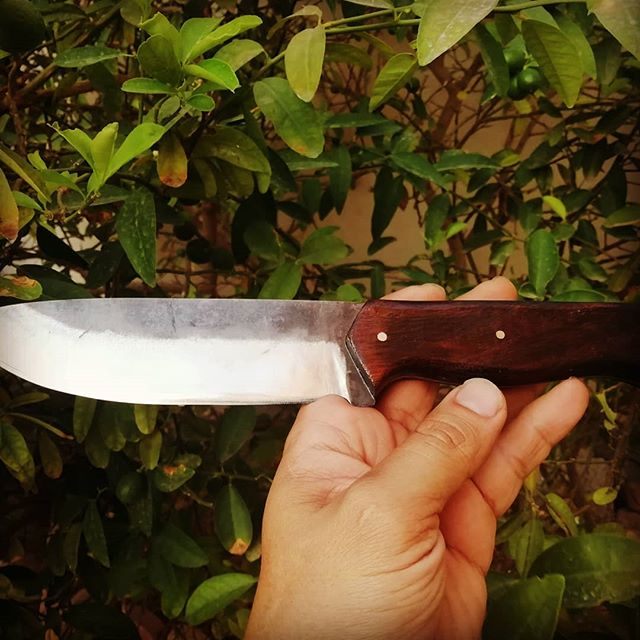knife: (1, 297, 640, 407)
